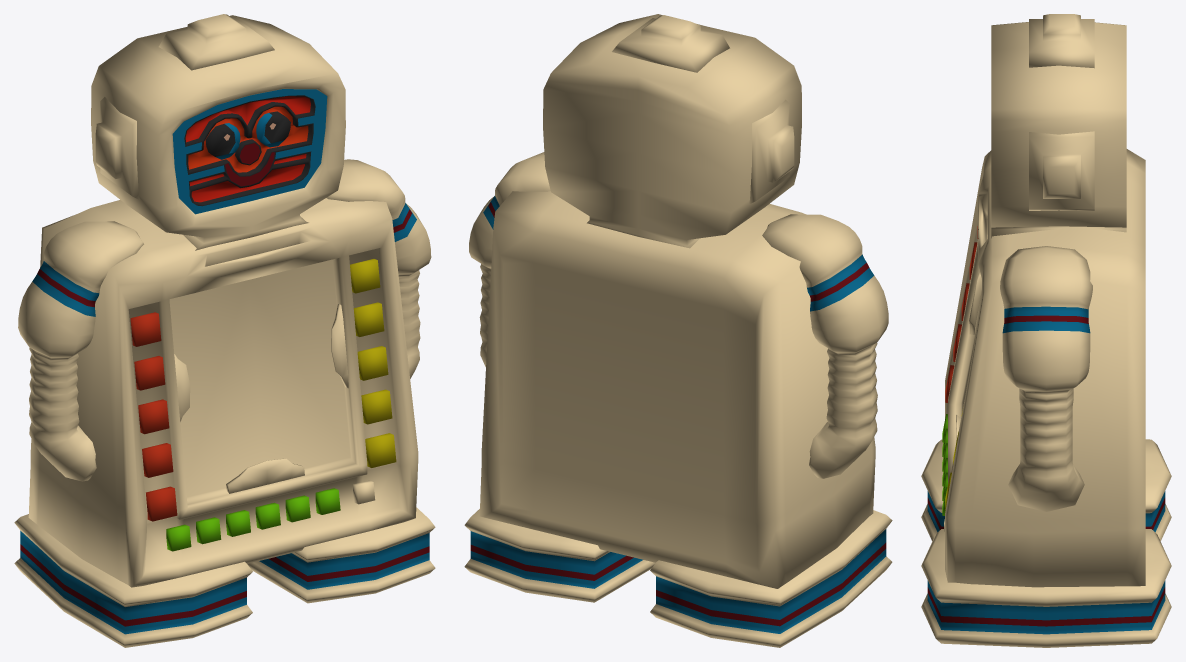
The model's file is AlphieIII.dae.
The picture shows the model from 3 angles, left to right: view 1: azimuth 30°, elevation 25°; view 2: azimuth 150°, elevation 25°; view 3: azimuth 270°, elevation 25°; orthographic projection.
Visible parts, largest first — view 1: Alphie-Body; view 2: Alphie-Body; view 3: Alphie-Body.
Part boxes in pixels (x1,y1,x2,y2): Alphie-Body: (14,14,435,647); Alphie-Body: (464,14,892,647); Alphie-Body: (921,14,1171,647).
Bounding box in the file's own units: 4.95 × 2.71 × 6.53.
